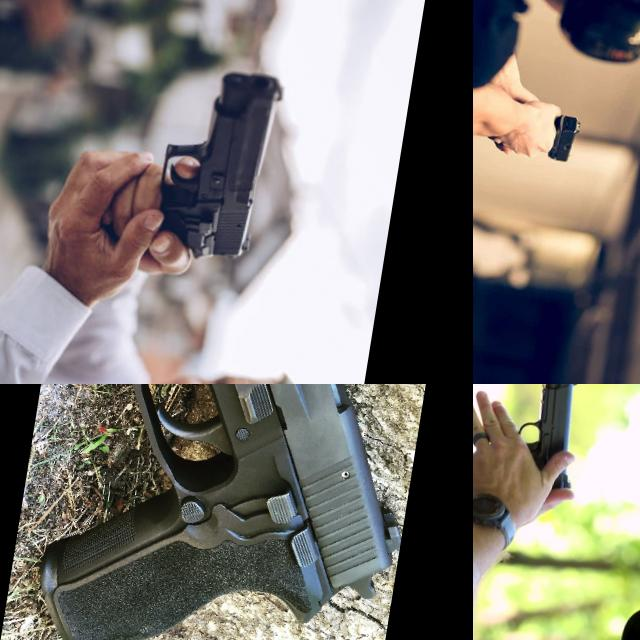handgun: (22, 384, 469, 640), (146, 55, 290, 272), (509, 384, 593, 494), (544, 112, 584, 166)
